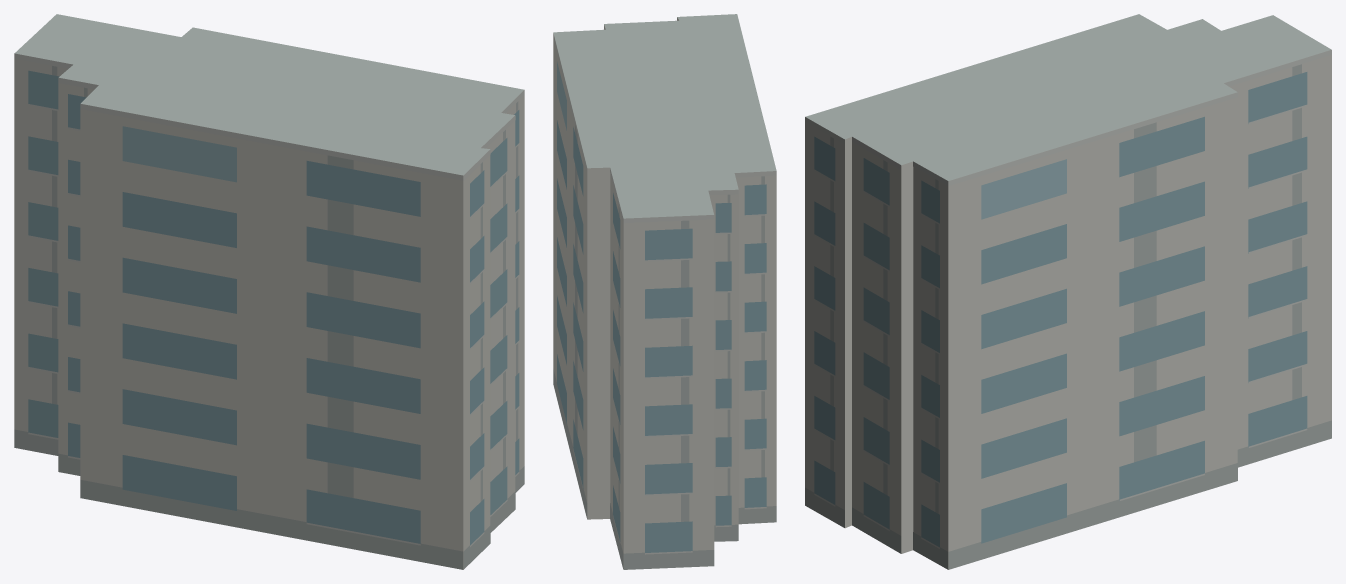
Rendered from survey-upis-32509114.glb.
The picture shows the model from 3 angles, left to right: view 1: azimuth 30°, elevation 25°; view 2: azimuth 150°, elevation 25°; view 3: azimuth 270°, elevation 25°; orthographic projection. The views are drawn at different scales.
Parts seen in each view (by area): view 1: survey-upis-32509114.tmp; view 2: survey-upis-32509114.tmp; view 3: survey-upis-32509114.tmp.
Part boxes in pixels (x1,y1,x2,y2): survey-upis-32509114.tmp: (14,14,524,569); survey-upis-32509114.tmp: (553,14,776,569); survey-upis-32509114.tmp: (805,14,1331,569).
Size of the model in its own units: 16.88 by 18.3 by 22.48.
